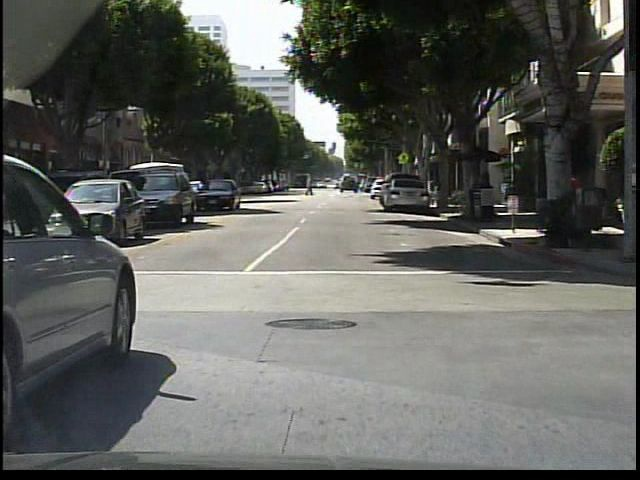person: (566, 168, 582, 237), (470, 167, 487, 221), (305, 178, 315, 197)
